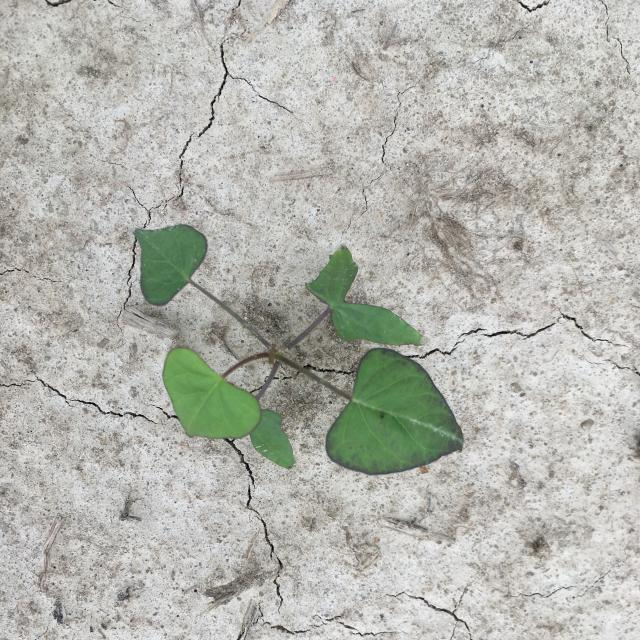MorningGlory: (132, 224, 464, 476)
